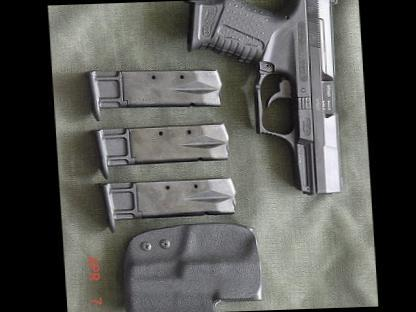pistol: (183, 0, 354, 201)
